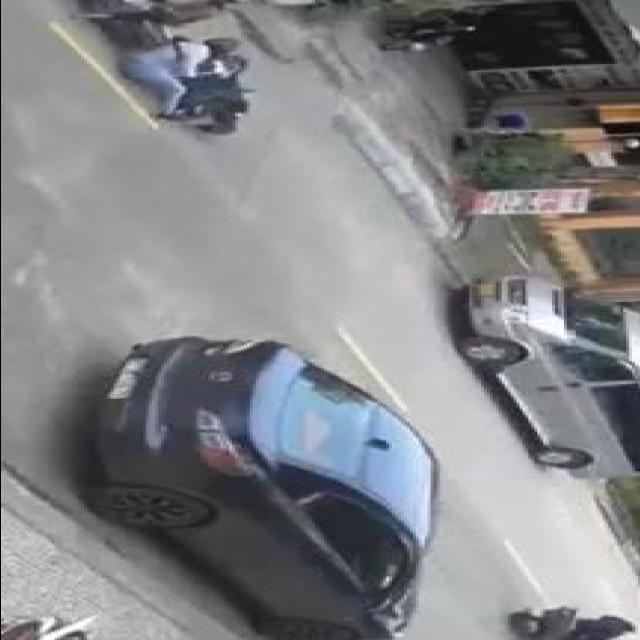accident: (33, 0, 311, 138)
